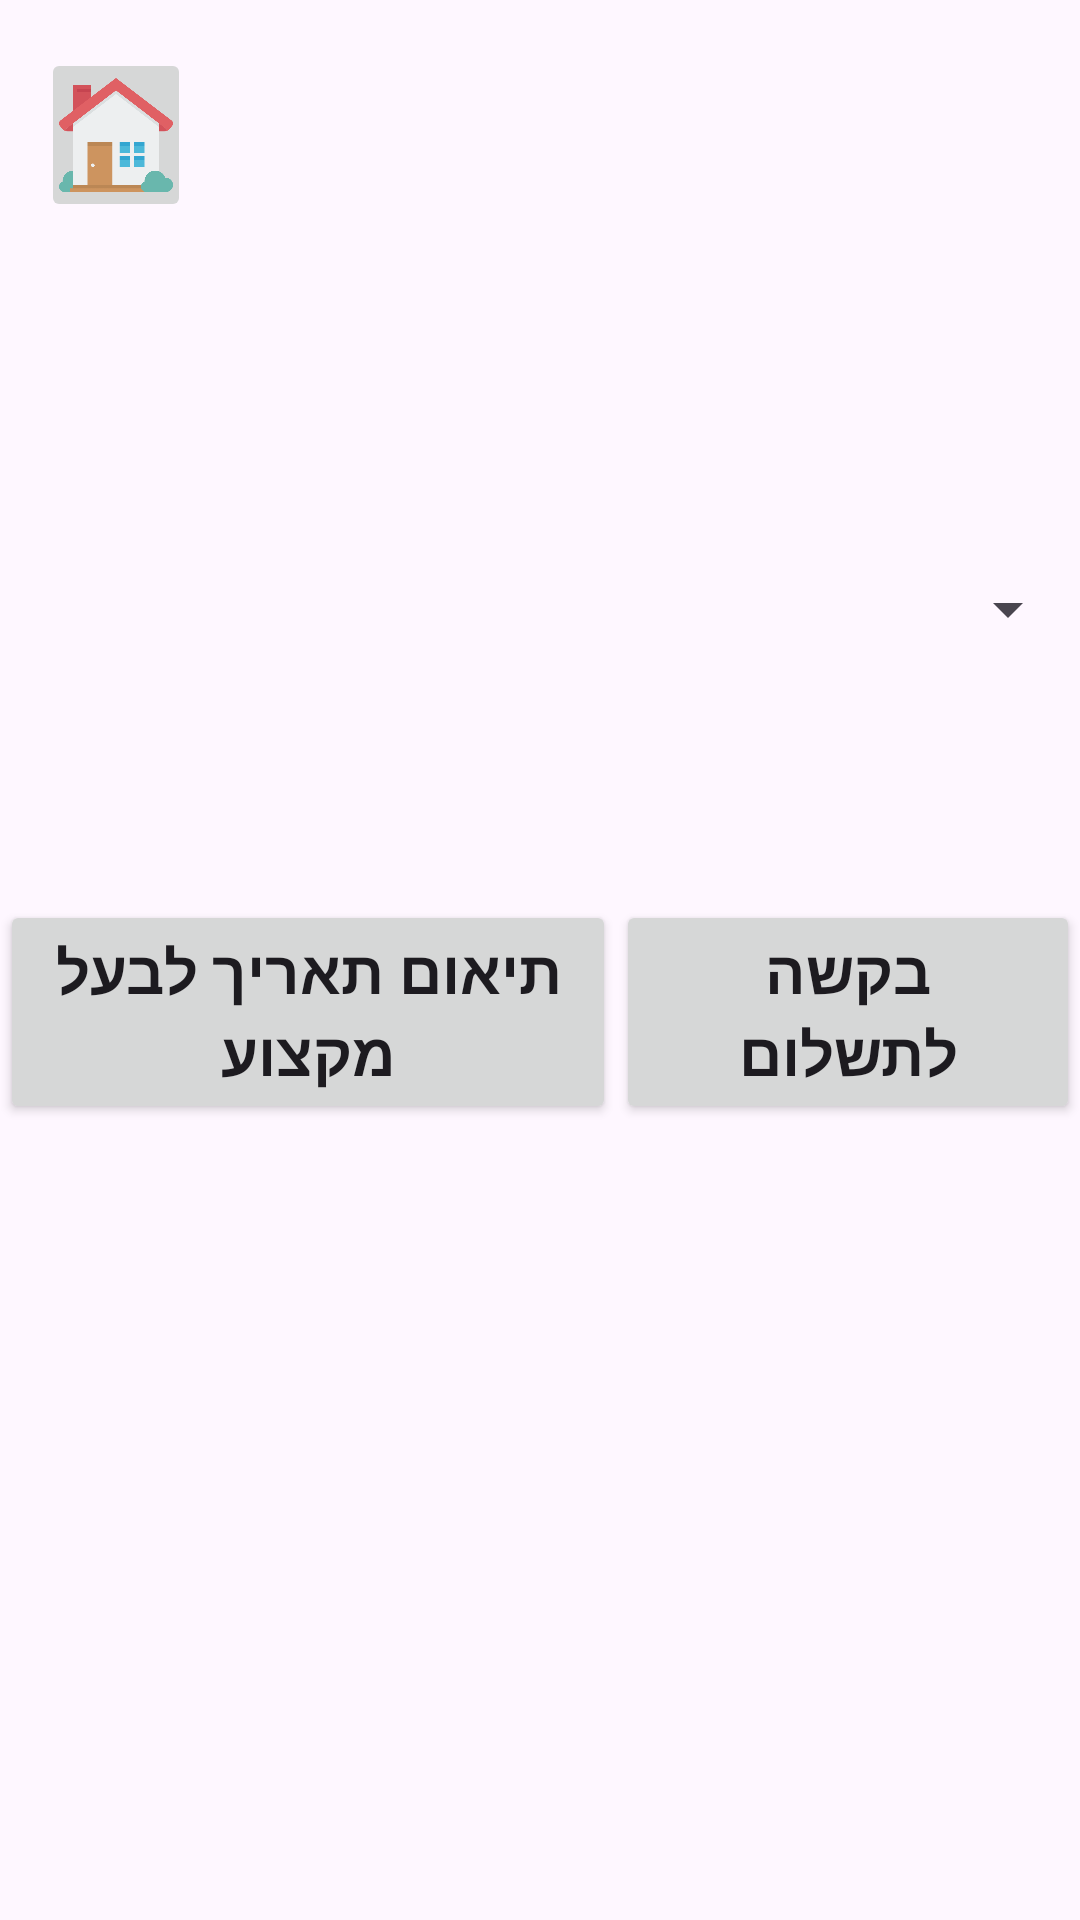

Icons on this 1080x1920 Android screen, each with the point to tap as (x,y):
Home button for renter homepage: (116,135)
